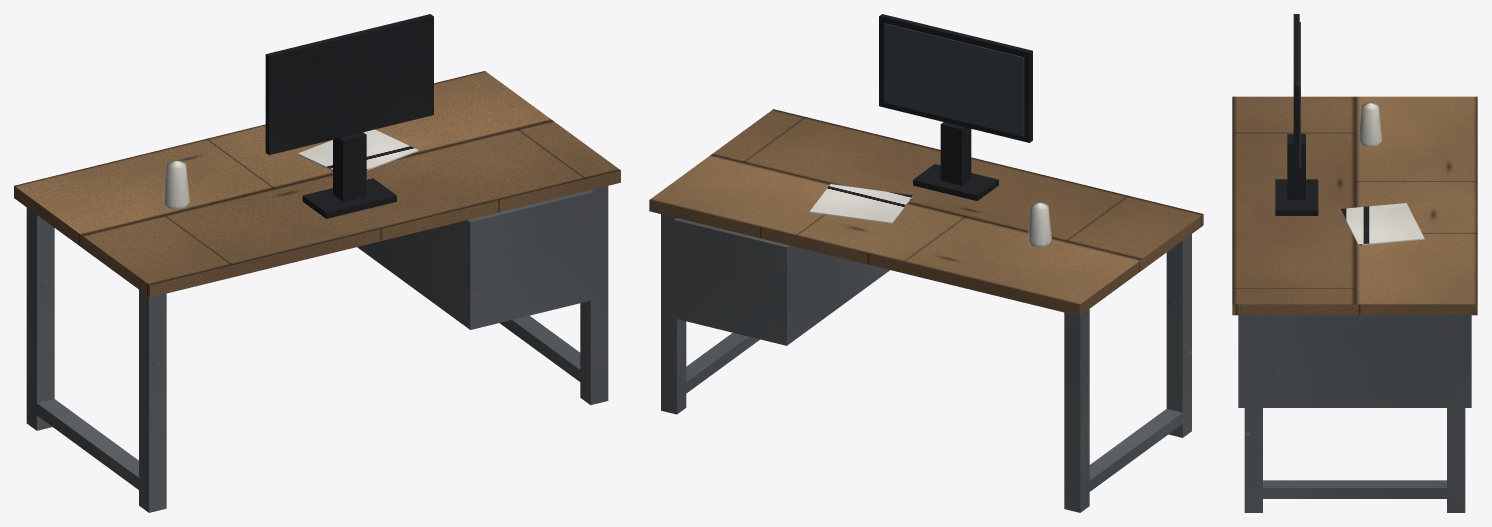
The model's file is desk.glb.
3 views of the same model, side by side, from view 1: azimuth 30°, elevation 25°; view 2: azimuth 150°, elevation 25°; view 3: azimuth 270°, elevation 25° (orthographic). The views are drawn at different scales.
Visible parts, largest first — view 1: desk; view 2: desk; view 3: desk.
Part boxes in pixels (x1,y1,x2,y2): desk: (14,14,620,512); desk: (649,14,1203,512); desk: (1232,14,1477,512).
Bounding box in the file's own units: 1.6 × 1.3 × 0.8.
6 materials, 5 textured.
